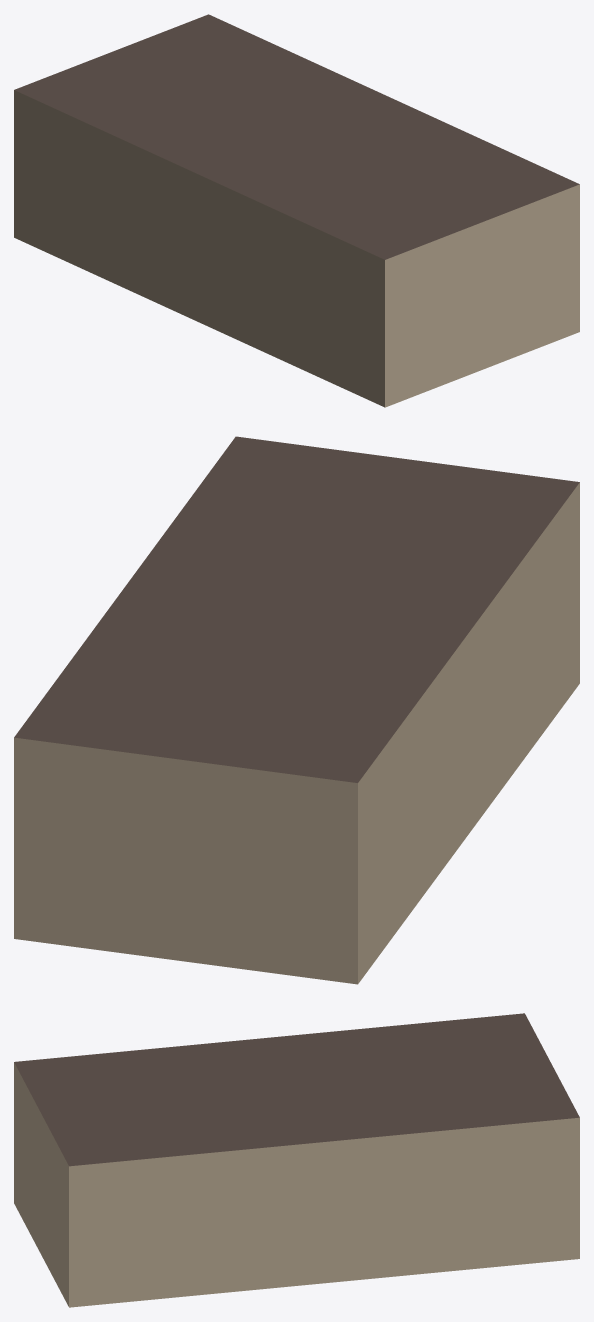
3 renders of one model, top to bottom at view 1: azimuth 30°, elevation 25°; view 2: azimuth 150°, elevation 25°; view 3: azimuth 270°, elevation 25°, orthographic. The views are drawn at different scales.
Parts seen in each view (by area): view 1: HP-w859082580; view 2: HP-w859082580; view 3: HP-w859082580.
Boxes of the visible parts, bbox=[...] form: HP-w859082580: bbox=[14, 14, 579, 407]; HP-w859082580: bbox=[14, 436, 579, 984]; HP-w859082580: bbox=[14, 1013, 579, 1307].
Bounding box in the file's own units: 20.91 × 9 × 32.67.
